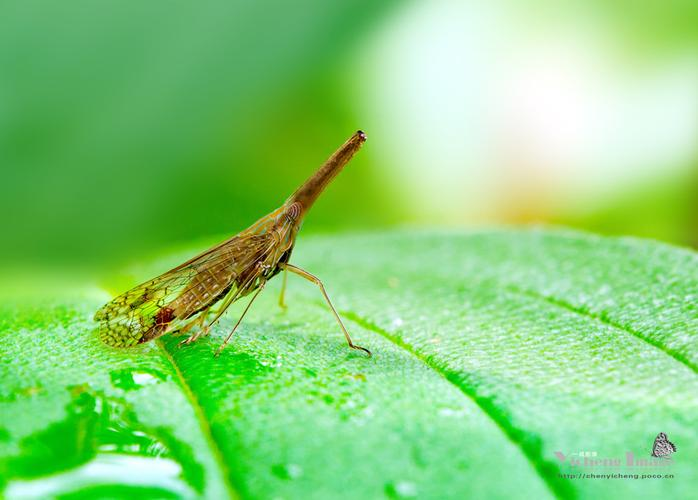Cicadellidae: (93, 130, 371, 359)
